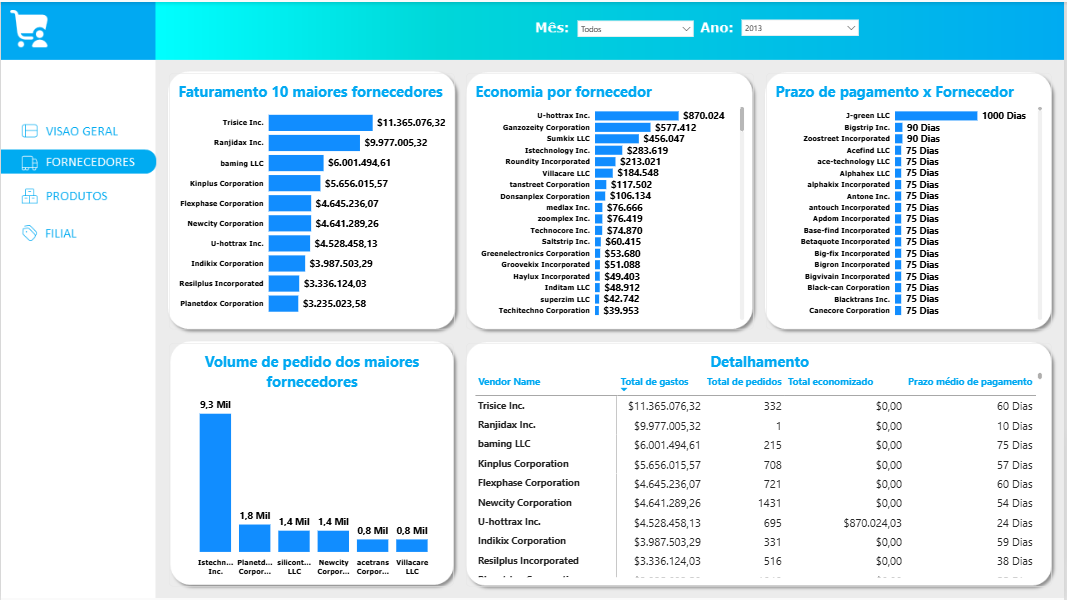

This screenshot's page, from the dashboard's own definition file:
{"tool":"powerbi","page":{"name":"Fornecedores","canvas":[1920,1080],"ordinal":1},"visuals":[{"type":"clusteredBarChart","title":"Faturamento 10 maiores fornecedores","fields":{"Category":["d_Vendo.Vendor Name"],"Y":["_metricas.Total de gastos"]},"box":[303.5,128.1,516.4,463.1],"z":0},{"type":"clusteredBarChart","title":"Economia por fornecedor","fields":{"Category":["d_Vendo.Vendor Name"],"Y":["_metricas.Total economizado"]},"box":[839.1,128.5,519.7,463],"z":1000},{"type":"clusteredBarChart","title":"Prazo de pagamento x Fornecedor","fields":{"Category":["d_Vendo.Vendor Name"],"Y":["_metricas.Prazo médio de pagamento"]},"box":[1381.4,128.5,515.9,463],"z":2000},{"type":"clusteredColumnChart","title":"Volume de pedido dos maiores fornecedores","fields":{"Y":["_metricas.Total de pedidos"],"Category":["d_Vendo.Vendor Name"]},"box":[304.3,616.1,514,440.3],"z":3000},{"type":"pivotTable","title":"Detalhamento","fields":{"Rows":["d_Vendo.Vendor Name"],"Values":["_metricas.Total de gastos","_metricas.Total de pedidos","_metricas.Total economizado","_metricas.Prazo médio de pagamento"]},"box":[839.1,616.1,1058.3,440.3],"z":4000},{"type":"slicer","fields":{"Values":["d_calendario.Month"]},"box":[1037.5,28.3,219.2,39.7],"z":5000},{"type":"slicer","fields":{"Values":["d_calendario.Year"]},"box":[1332.3,27.6,220.7,41.4],"z":6000},{"type":"actionButton","box":[0,208.9,281.8,45.3],"z":7000},{"type":"actionButton","box":[0,325.2,281.8,45.3],"z":8000},{"type":"actionButton","box":[0,394.2,281.8,45.3],"z":9000}]}

Visuals, with their boxes on the page's 1920x1080 design canvas (x1, y1, x2, y2). These are canvas units, not pixel positions in the 1067x600 screenshot, which may show the page scaled, cropped or inside an application window:
"Faturamento 10 maiores fornecedores" clusteredBarChart: [304,128,820,591]
"Economia por fornecedor" clusteredBarChart: [839,128,1359,592]
"Prazo de pagamento x Fornecedor" clusteredBarChart: [1381,128,1897,592]
"Volume de pedido dos maiores fornecedores" clusteredColumnChart: [304,616,818,1056]
"Detalhamento" pivotTable: [839,616,1897,1056]
slicer - d_calendario.Month: [1038,28,1257,68]
slicer - d_calendario.Year: [1332,28,1553,69]
actionButton: [0,209,282,254]
actionButton: [0,325,282,370]
actionButton: [0,394,282,440]
